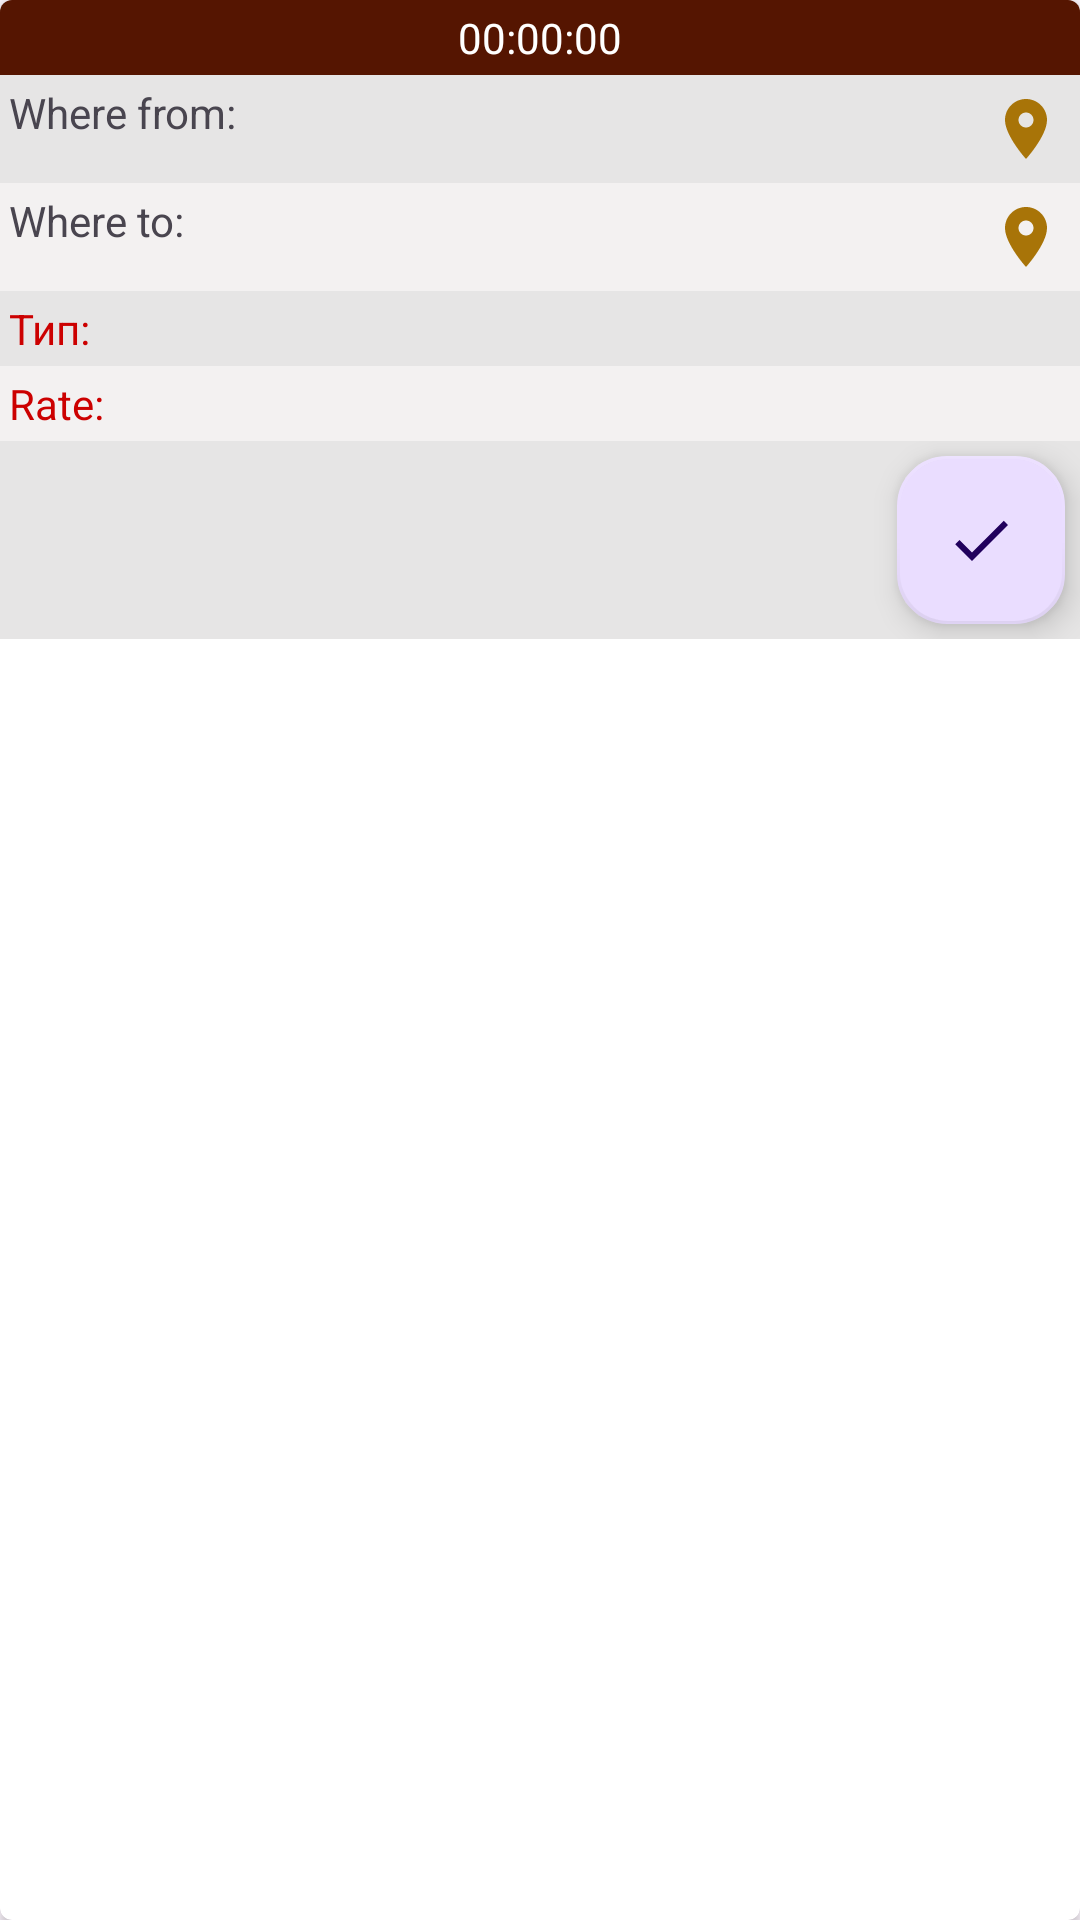

Point at icon controls on the screen. Image size 1080×1920, points as [x,y].
check: [981,540]
